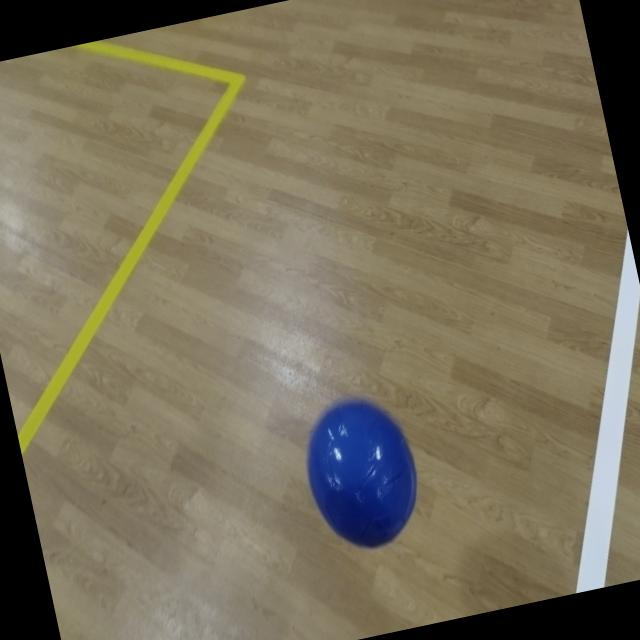blue_ball: (289, 385, 432, 560)
